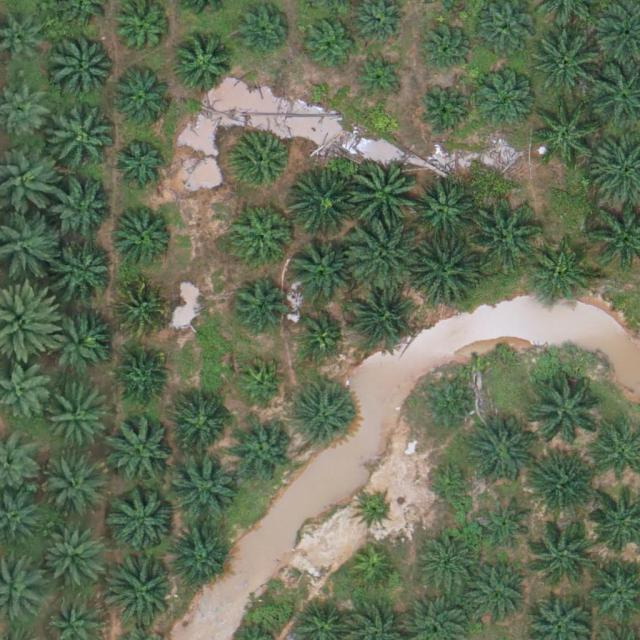Healthy: (531, 518, 601, 589), (531, 373, 602, 443), (471, 200, 541, 271), (408, 237, 478, 308), (351, 221, 421, 292), (169, 450, 239, 521), (107, 415, 177, 486), (109, 485, 180, 555), (534, 30, 604, 101), (350, 161, 420, 232), (287, 172, 358, 242), (51, 31, 121, 102), (47, 102, 117, 173), (525, 453, 595, 523), (465, 419, 535, 489), (109, 555, 179, 625), (534, 99, 604, 169), (232, 204, 295, 267), (45, 307, 108, 370), (40, 526, 103, 589), (474, 3, 537, 66), (412, 178, 475, 241), (172, 35, 235, 98), (530, 246, 593, 308), (349, 287, 412, 349), (288, 240, 350, 303), (417, 532, 479, 595), (465, 565, 527, 628), (234, 420, 297, 482), (168, 526, 230, 589), (113, 204, 175, 267), (52, 182, 114, 245), (55, 241, 117, 304), (46, 389, 108, 452), (43, 459, 105, 522), (231, 132, 293, 195), (293, 387, 355, 449), (474, 69, 536, 131), (111, 70, 173, 132), (479, 499, 534, 554), (420, 379, 475, 434), (231, 278, 286, 333), (175, 399, 230, 454), (114, 349, 169, 404), (419, 87, 474, 142), (417, 18, 472, 73), (117, 4, 172, 59), (112, 137, 167, 192), (236, 5, 290, 60), (305, 16, 359, 71)
Small: (357, 51, 404, 99), (238, 359, 285, 407), (297, 313, 344, 360), (427, 461, 474, 508), (355, 492, 395, 532)
Yellow: (113, 281, 168, 336), (350, 547, 397, 594)
